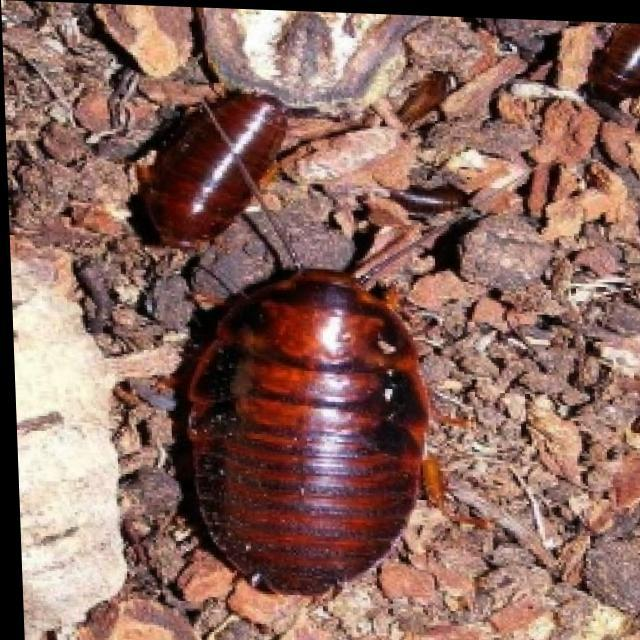cockroach: (175, 267, 437, 596), (121, 86, 298, 259)
